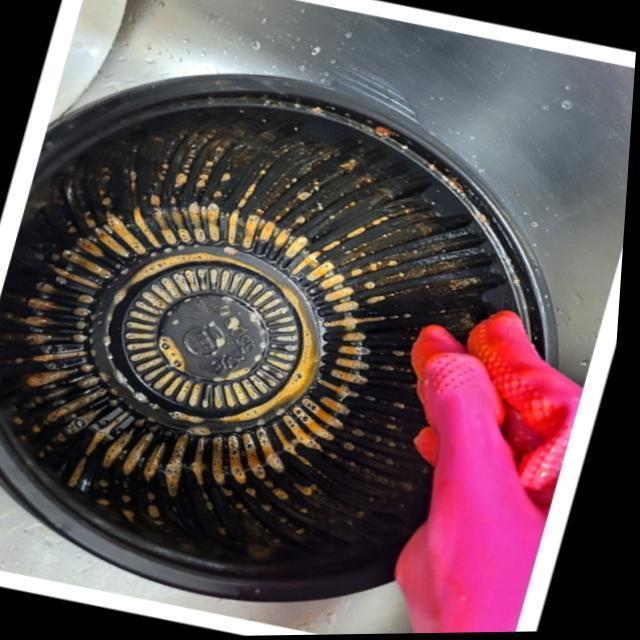disposable: (0, 39, 573, 640)
